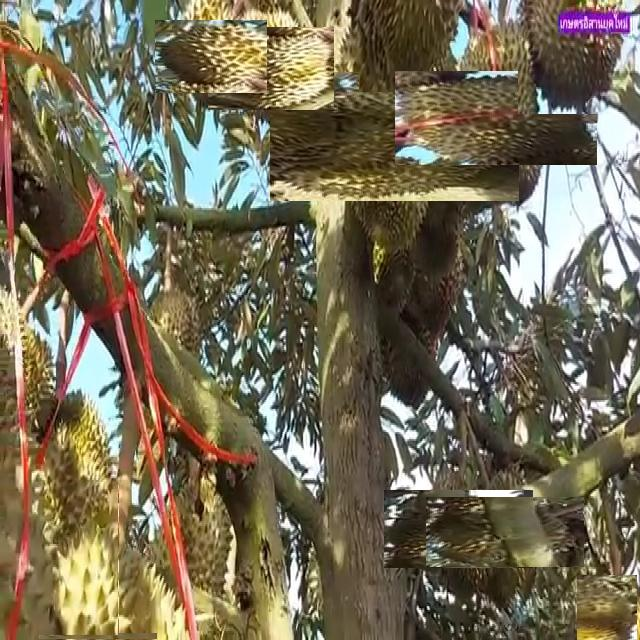durian: (300, 42, 489, 231), (5, 385, 118, 635), (422, 44, 571, 192), (21, 502, 175, 640), (119, 471, 235, 633), (448, 475, 562, 590), (401, 472, 515, 586), (518, 1, 630, 114), (218, 16, 323, 121), (140, 276, 204, 439), (359, 0, 468, 92), (164, 10, 257, 103), (575, 576, 638, 639)
